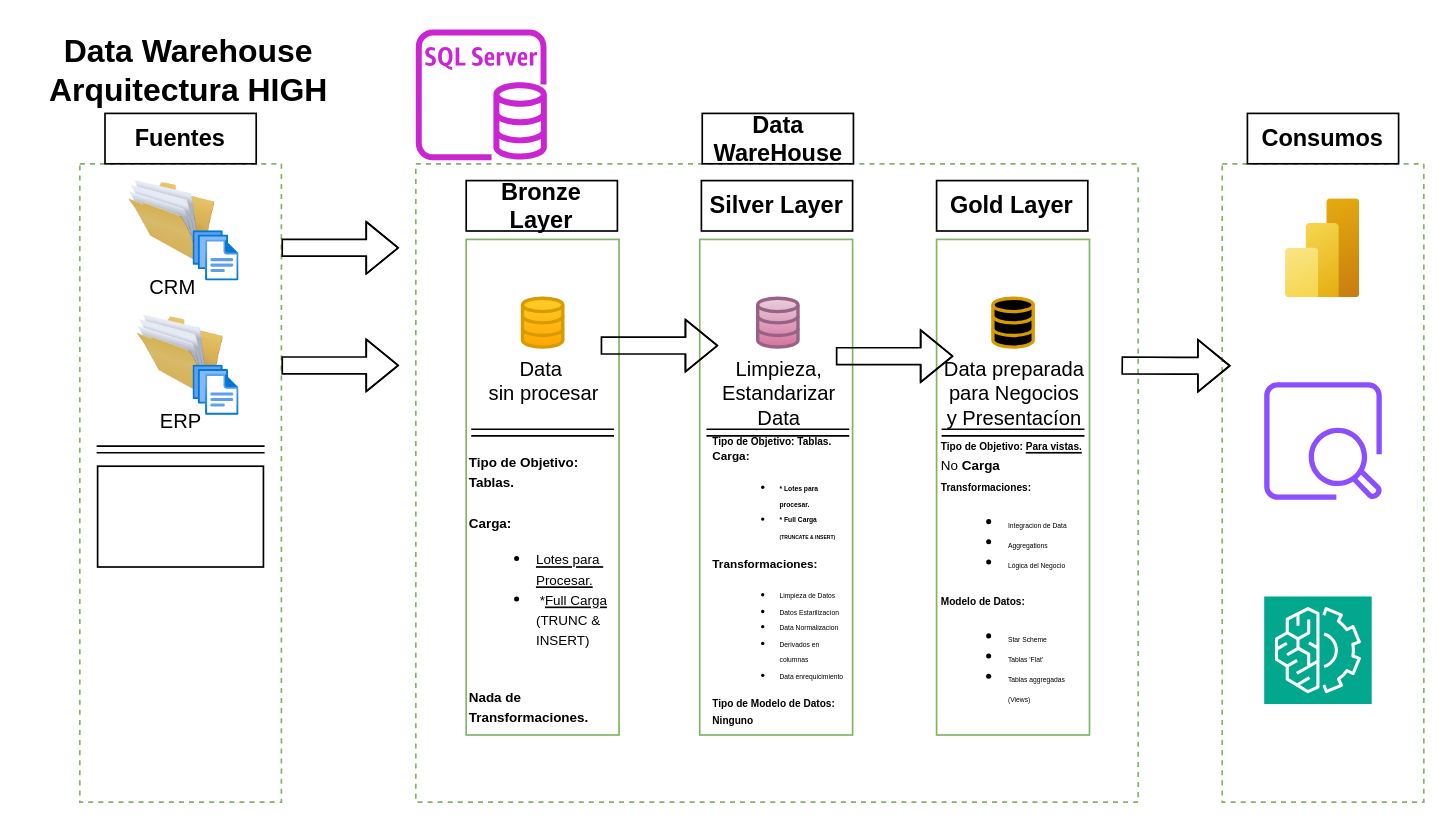
This 1453x832 diagram has some shape labels left out. Each missing label, with the centre of its shape:
"Bi O Tableu para Visualizaciones." belongs at point (1322, 247).
"Machine Learning Data Science." belongs at point (1317, 649).
"SQL Queries Data Analytics." belongs at point (1322, 440).
"Tipo de Objetivo: CSV Archivos. Interface: Archivos en las carpetas." belongs at point (179, 516).
